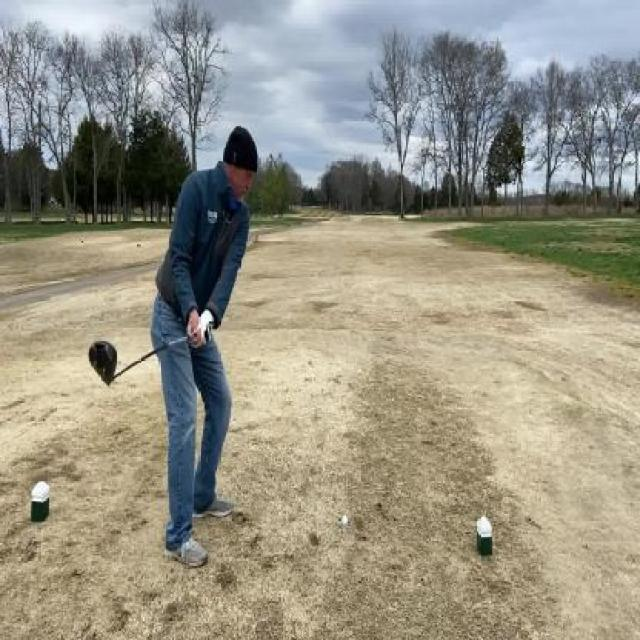club head: (88, 338, 120, 388)
